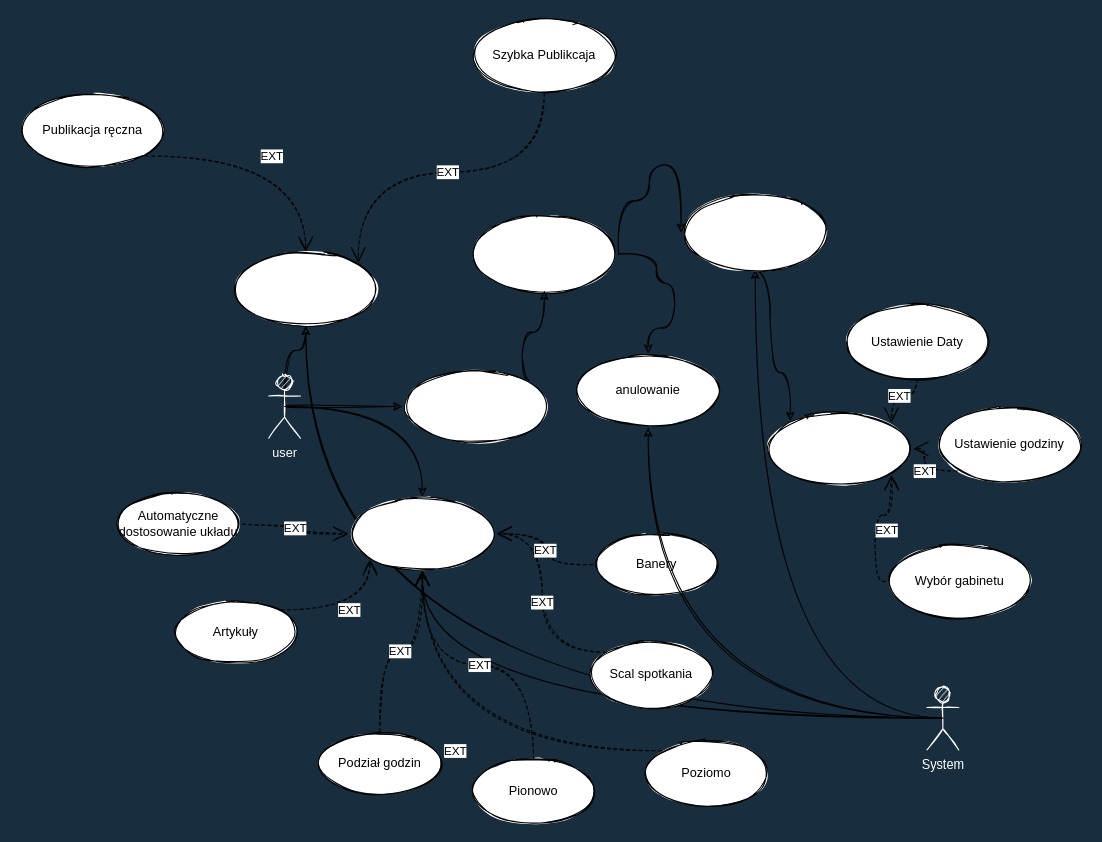
The diagram is 1102 pixels wide and 842 high, and some of its shapes have lost their labels. The box of each missing label's shape, as (x1, y1, x2, y2) in pixels:
Konfiguracja szkolenia: (764, 411, 913, 486)
Publikacja Wpisów: (231, 251, 380, 326)
stworzenie szkolenia: (469, 216, 619, 291)
wybór miejsca zapisu szkolenia: (401, 368, 551, 444)
Wybór układu treści: (347, 496, 497, 571)
zapisanie: (680, 195, 829, 270)
